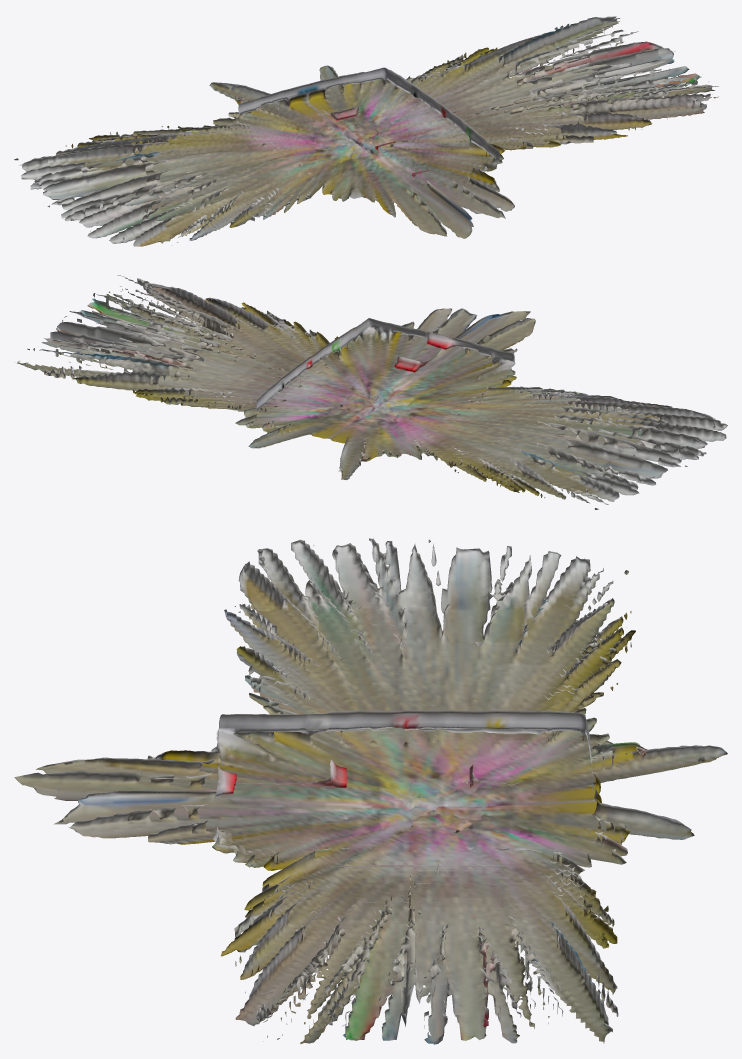
The model's file is World 1_collider (1).glb.
The picture shows the model from 3 angles, top to bottom: view 1: azimuth 30°, elevation 25°; view 2: azimuth 150°, elevation 25°; view 3: azimuth 270°, elevation 25°; orthographic projection. The views are drawn at different scales.
Parts seen in each view (by area): view 1: world; view 2: world; view 3: world.
Part boxes in pixels (left/top/right/bottom): world: left=14, top=16, right=718, bottom=246; world: left=17, top=275, right=727, bottom=509; world: left=14, top=538, right=727, bottom=1044.
Bounding box in the file's own units: 104 × 5.3 × 63.46.
